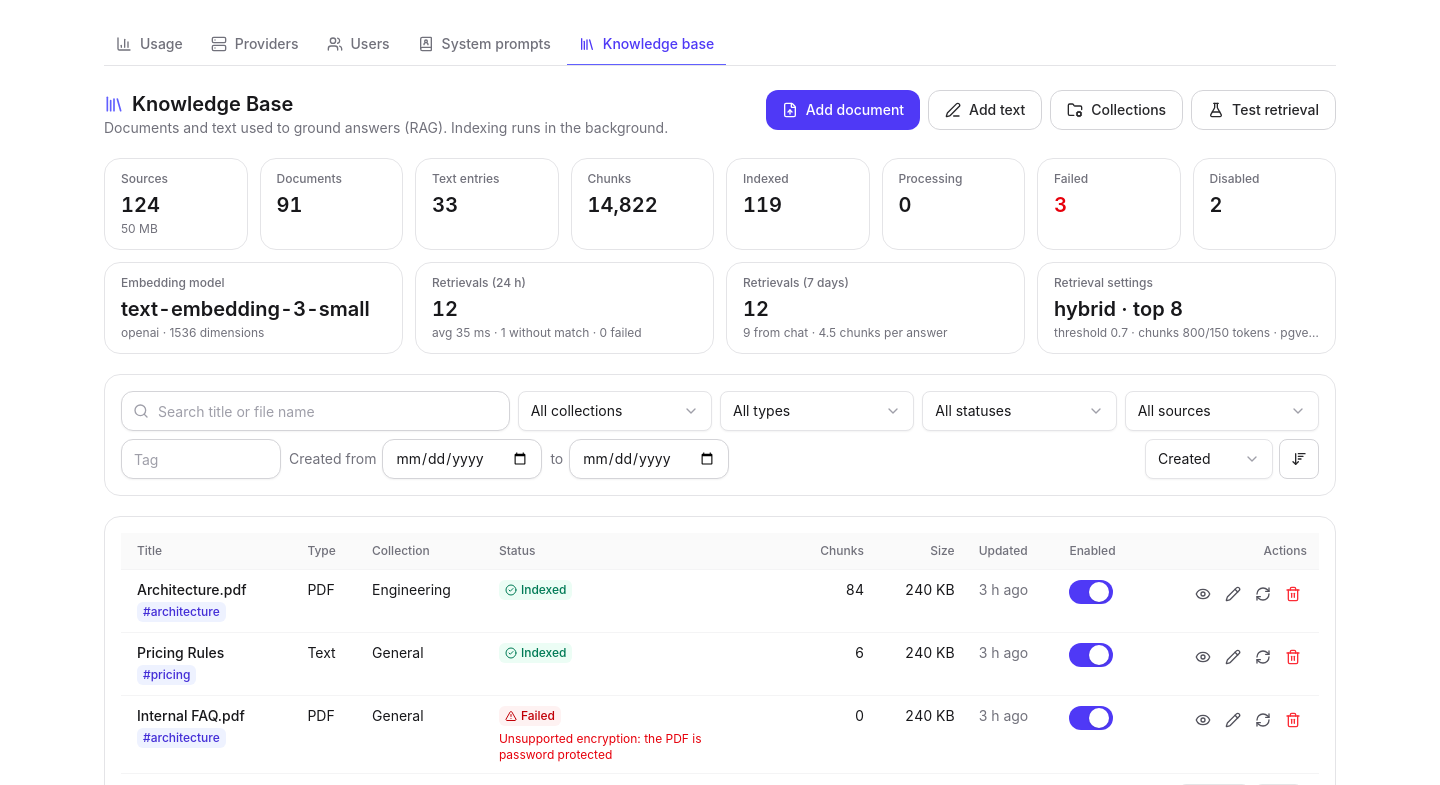
Test case: KnowledgePage › filters the list by collection
Expected: the link "Pricing Rules" is shown, x1=137 y1=644 x2=224 y2=661
Step 1. Click the button with aria-label "Filter by collection" → (615, 411), box x1=518 y1=391 x2=712 y2=431
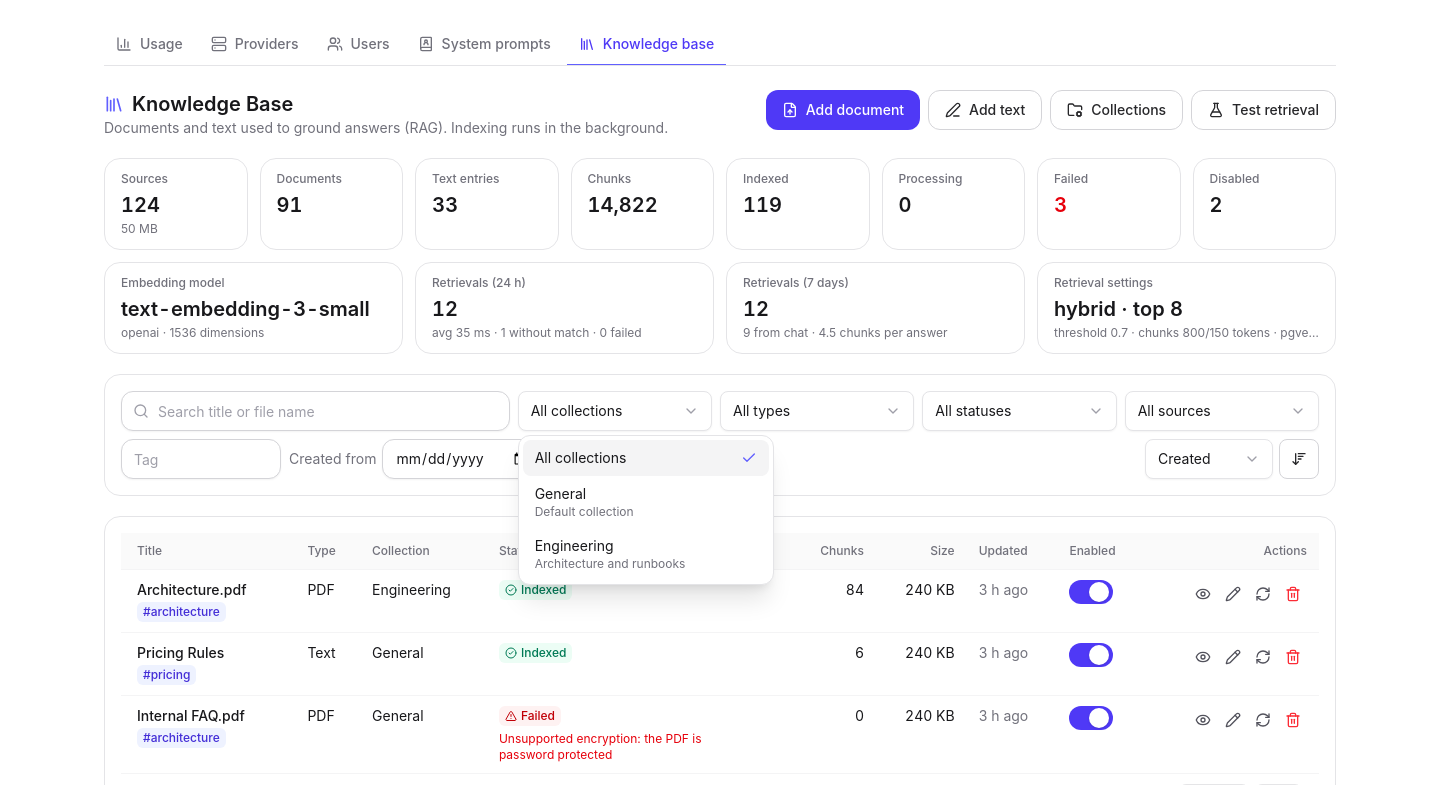
Step 2. Click the option "Engineering Architecture and runbooks" → (610, 554), box x1=535 y1=537 x2=686 y2=571
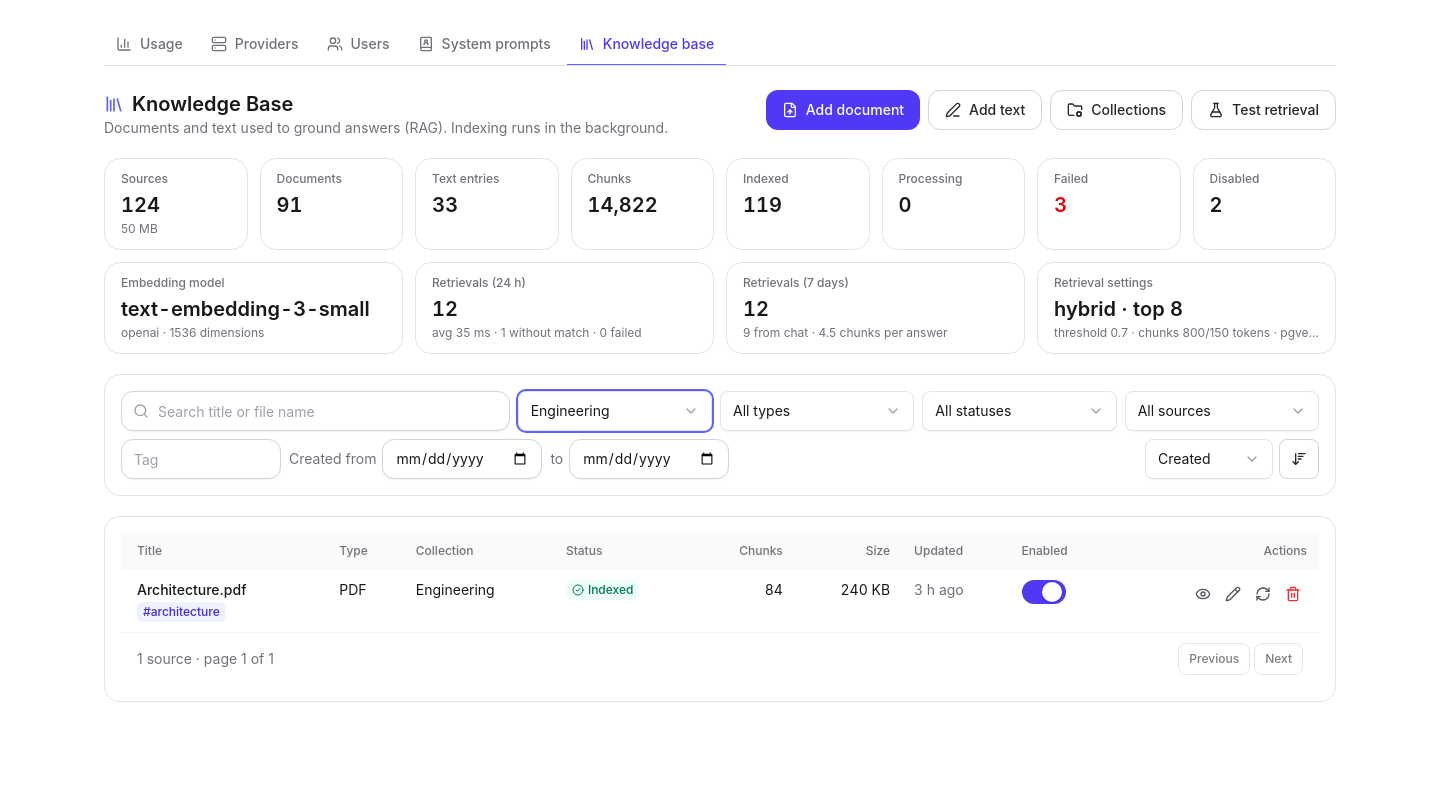
Expected: the link "Architecture.pdf" is shown, x1=137 y1=581 x2=246 y2=598
Expected: the link "Pricing Rules" is gone
